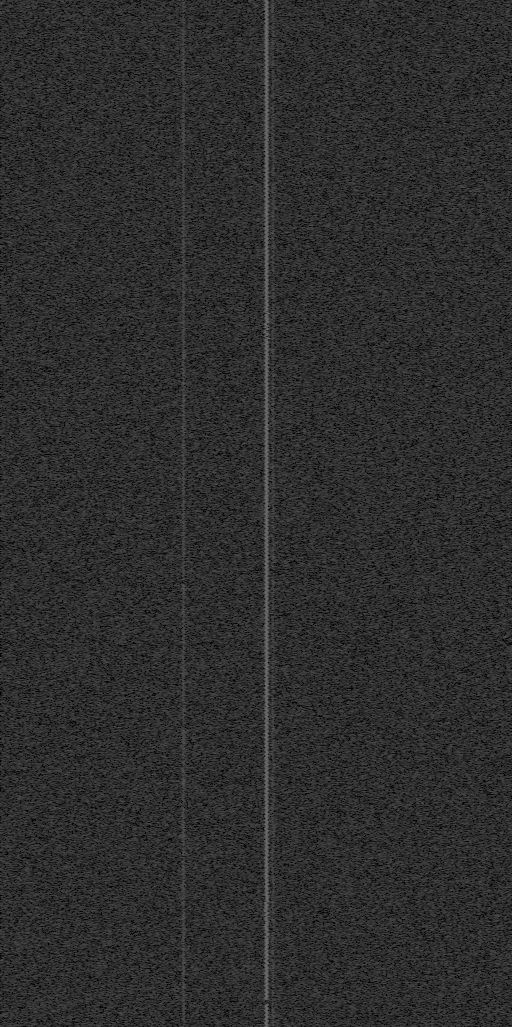wv_wbfm: (262, 0, 271, 1000), (269, 0, 277, 1027), (180, 0, 187, 1027), (263, 1004, 270, 1027)
